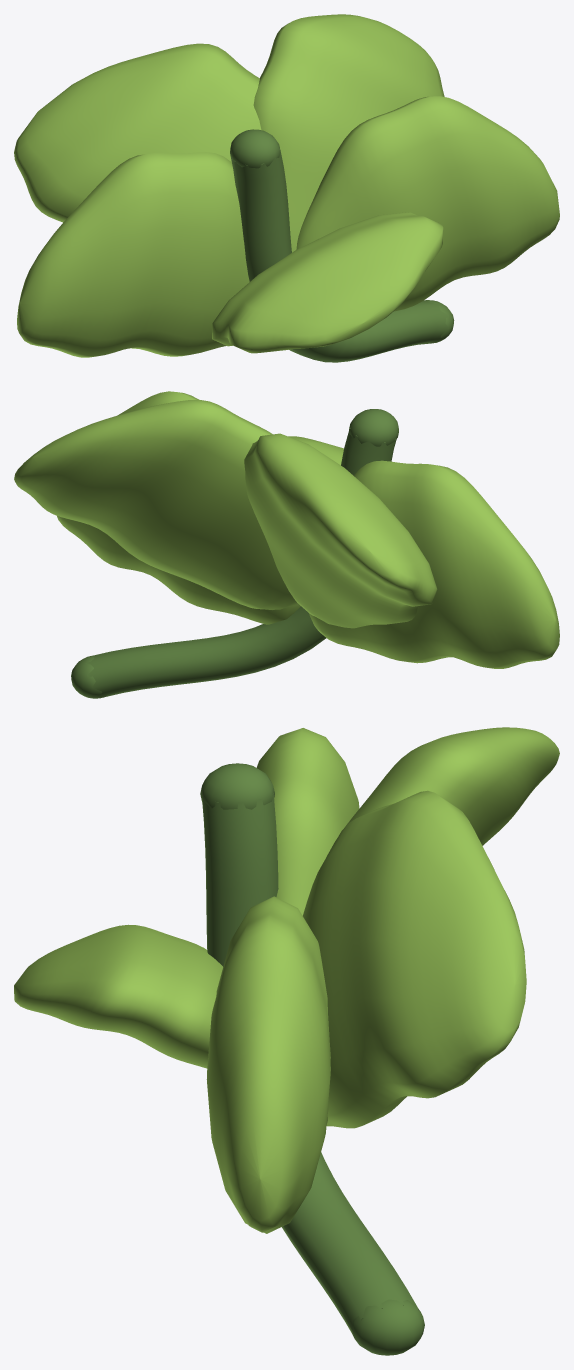
The model's file is crop_7_stage_2.fbx.
The picture shows the model from 3 angles, top to bottom: view 1: azimuth 30°, elevation 25°; view 2: azimuth 150°, elevation 25°; view 3: azimuth 270°, elevation 25°; orthographic projection. The views are drawn at different scales.
Visible parts, largest first — view 1: crop_7_stage_2; view 2: crop_7_stage_2; view 3: crop_7_stage_2.
Part boxes in pixels (x1,y1,x2,y2): crop_7_stage_2: [14, 14, 559, 362]; crop_7_stage_2: [14, 391, 559, 698]; crop_7_stage_2: [14, 727, 559, 1355].
Bounding box in the file's own units: 0.53 × 0.325 × 0.34.
1 material, 1 textured.
